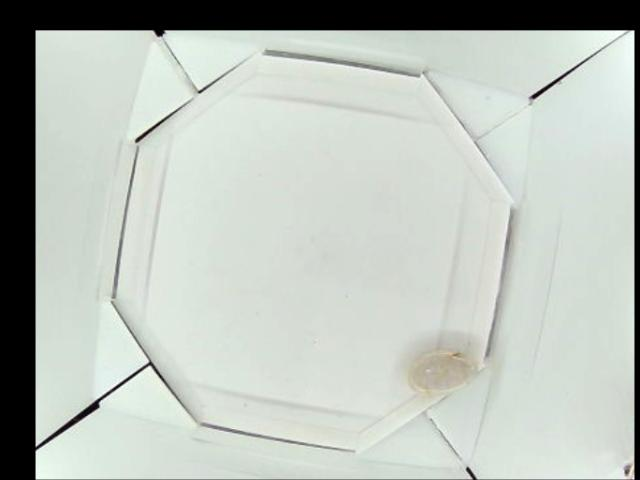Pebble: (409, 348, 477, 404)
